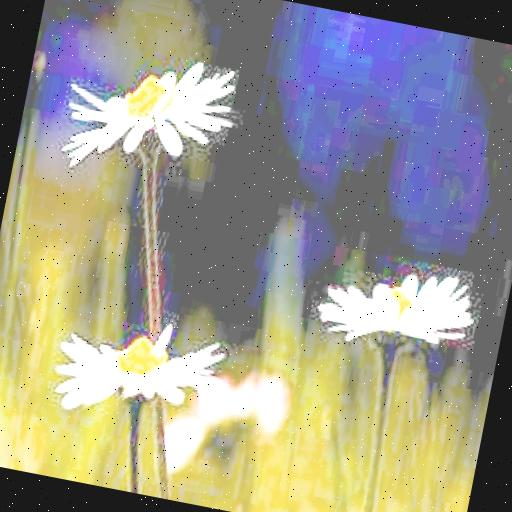daisy: (58, 46, 246, 190), (40, 318, 236, 429), (304, 256, 484, 358)
